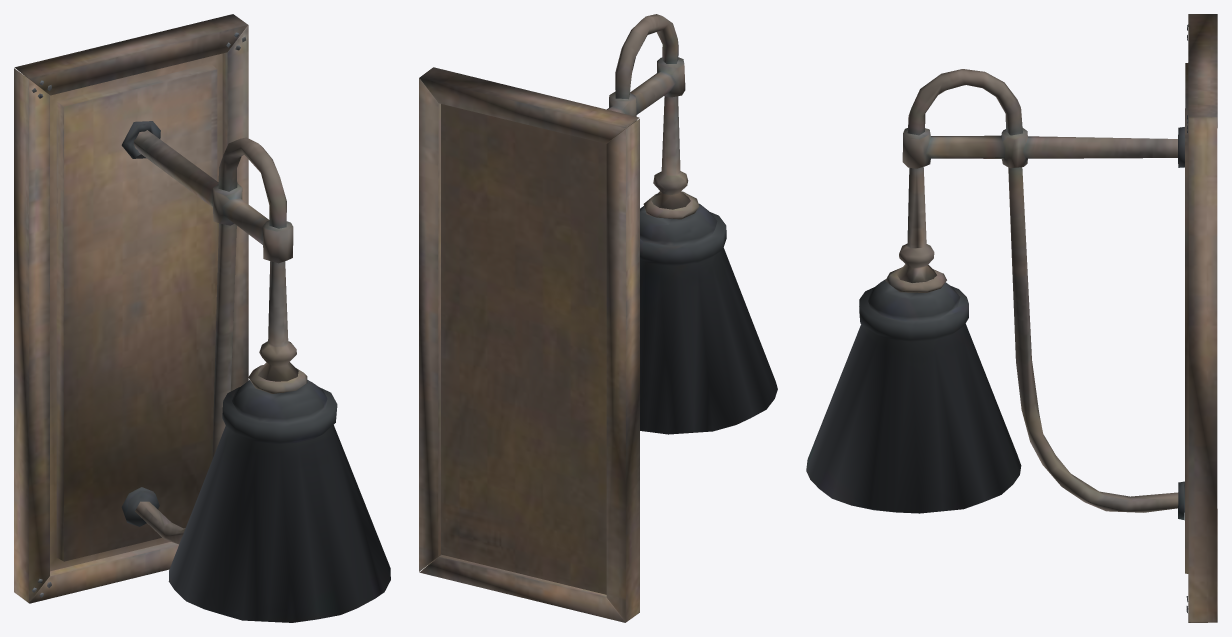
The model's file is wandlampe.glb.
3 renders of one model, left to right at view 1: azimuth 30°, elevation 25°; view 2: azimuth 150°, elevation 25°; view 3: azimuth 270°, elevation 25°, orthographic. The views are drawn at different scales.
Parts seen in each view (by area): view 1: industrial_wall_sconce; view 2: industrial_wall_sconce; view 3: industrial_wall_sconce.
Part boxes in pixels (x1,y1,x2,y2): industrial_wall_sconce: (14,14,390,622); industrial_wall_sconce: (419,14,777,622); industrial_wall_sconce: (806,14,1217,622).
Bounding box in the file's own units: 0.1495 × 0.3413 × 0.2515.
2 materials, 2 textured.
